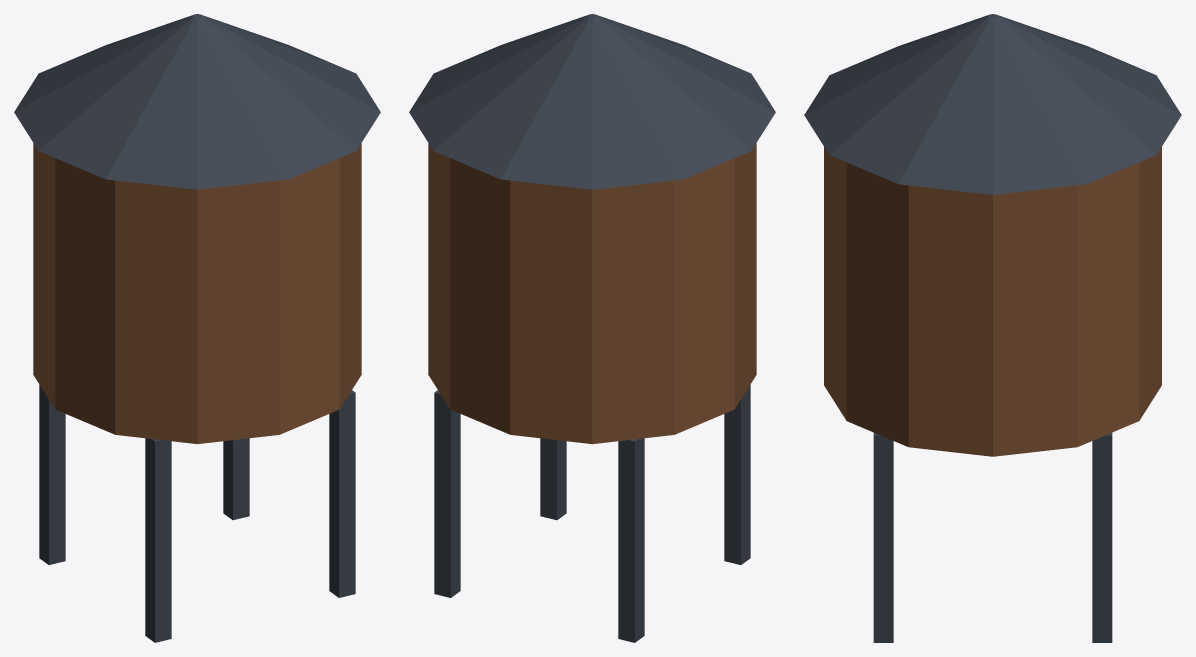
Rendered from water_tank.glb.
The picture shows the model from 3 angles, left to right: view 1: azimuth 30°, elevation 25°; view 2: azimuth 150°, elevation 25°; view 3: azimuth 270°, elevation 25°; orthographic projection. The views are drawn at different scales.
Parts seen in each view (by area): view 1: water_tank; view 2: water_tank; view 3: water_tank.
Part boxes in pixels (x1,y1,x2,y2): water_tank: [14, 14, 380, 642]; water_tank: [409, 14, 775, 642]; water_tank: [804, 14, 1181, 642].
Size of the model in its own units: 3.8 by 6.4 by 3.8.
